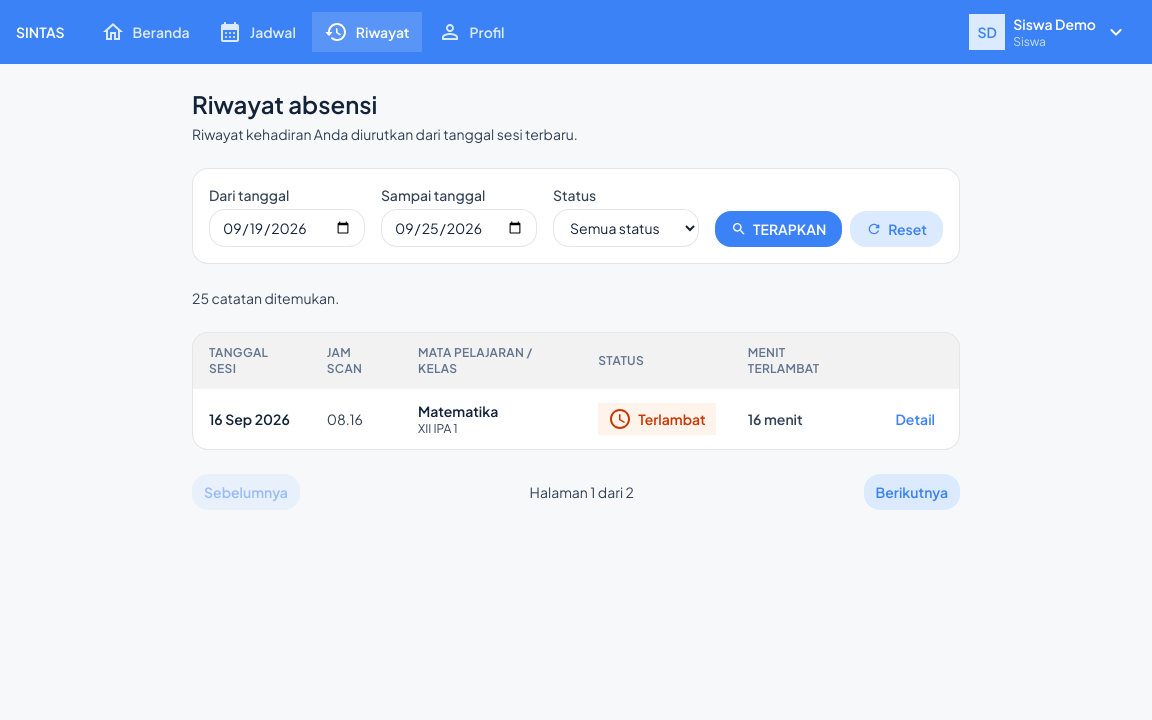
halaman riwayat siswa › berpindah halaman sesuai meta pagination
Check: the text "Halaman 1 dari 2" is shown, box left=530, top=482, right=634, bottom=502
Click the button "Berikutnya" at (912, 492), box left=864, top=474, right=960, bottom=510
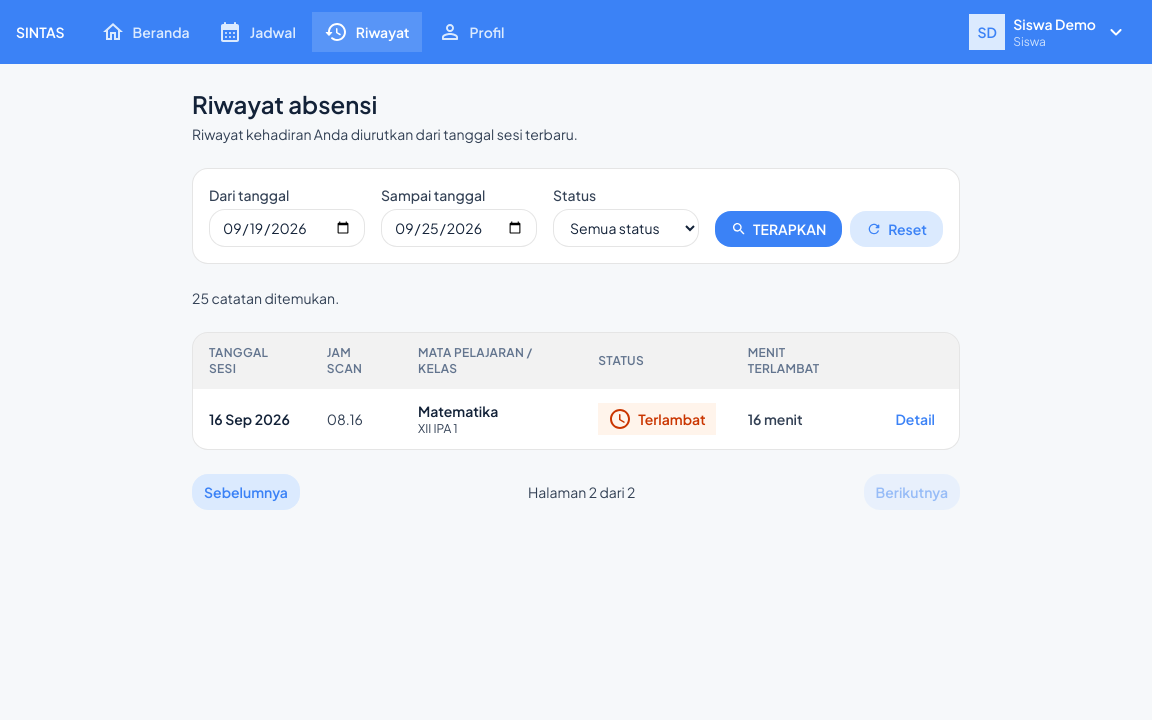
Check: the text "Halaman 2 dari 2" is shown, box left=528, top=482, right=636, bottom=502
Check: the button "Berikutnya" is disabled, box left=864, top=474, right=960, bottom=510
